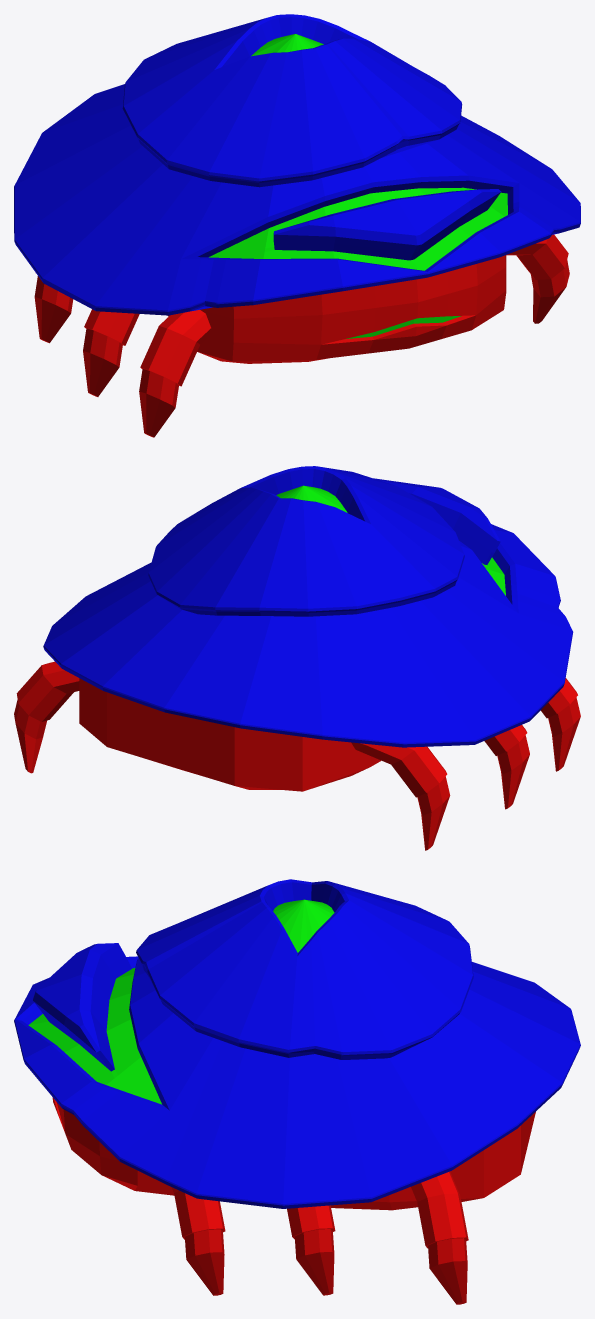
The model's file is Low_bug.fbx.
The picture shows the model from 3 angles, top to bottom: view 1: azimuth 30°, elevation 25°; view 2: azimuth 150°, elevation 25°; view 3: azimuth 270°, elevation 25°; orthographic projection. The views are drawn at different scales.
Parts seen in each view (by area): view 1: Low_bug6_shell2; view 2: Low_bug6_shell2; view 3: Low_bug6_shell2.
Part boxes in pixels (<box>): Low_bug6_shell2: <box>14,14,580,437</box>; Low_bug6_shell2: <box>14,466,580,850</box>; Low_bug6_shell2: <box>14,879,580,1304</box>.
Size of the model in its own units: 18.13 by 10.76 by 18.13.
